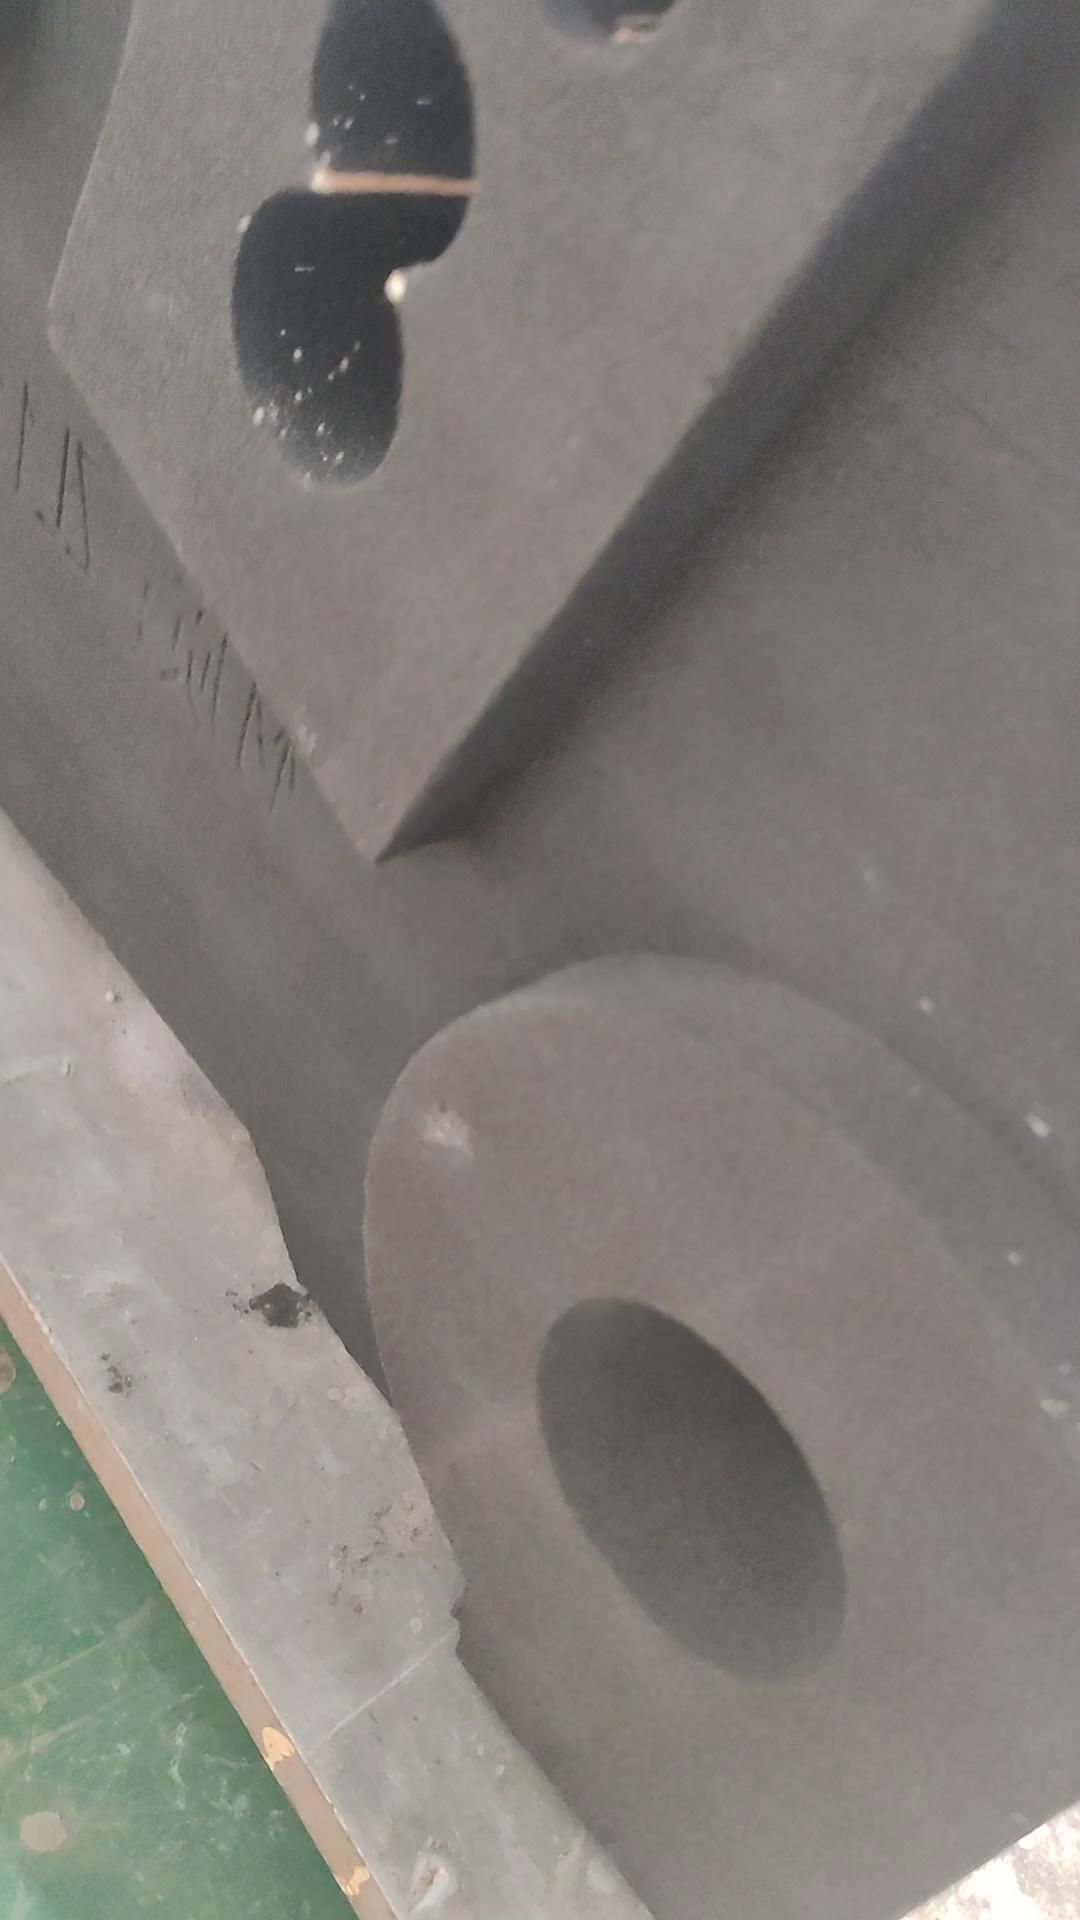pouring hole: (535, 1300, 848, 1684)
